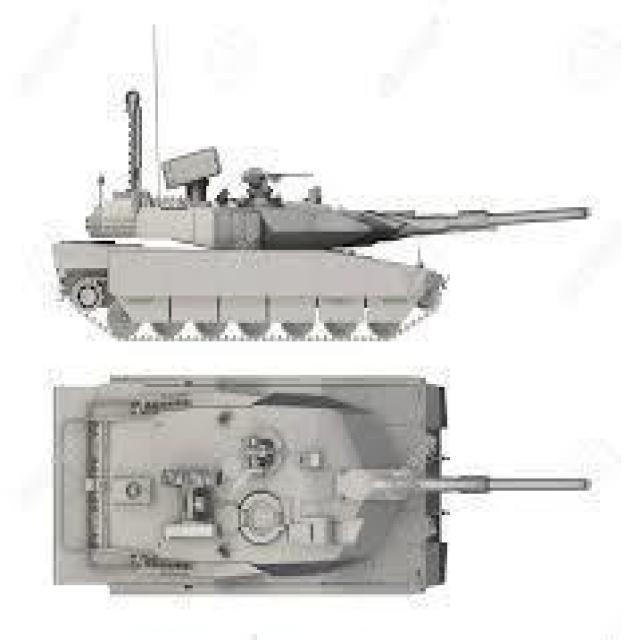Tanks: (47, 357, 585, 600), (54, 100, 584, 344)
